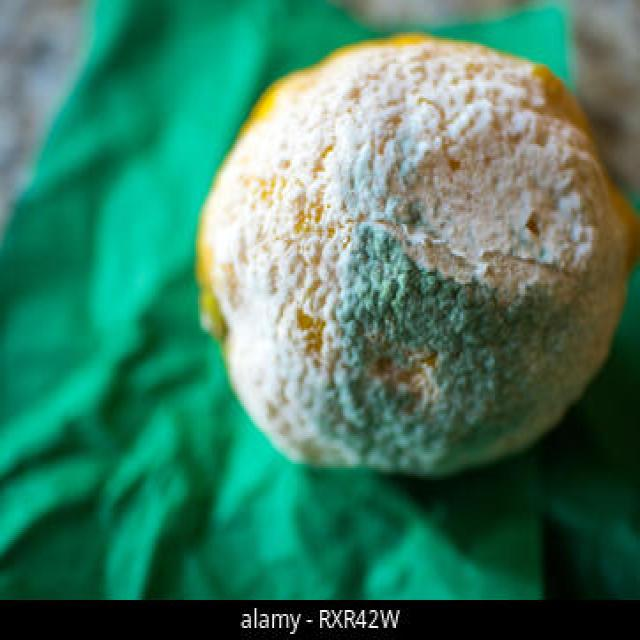Rotten: (196, 32, 640, 477)
